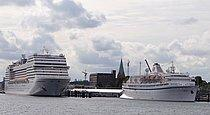Ship: (120, 57, 204, 105), (3, 45, 75, 100)
